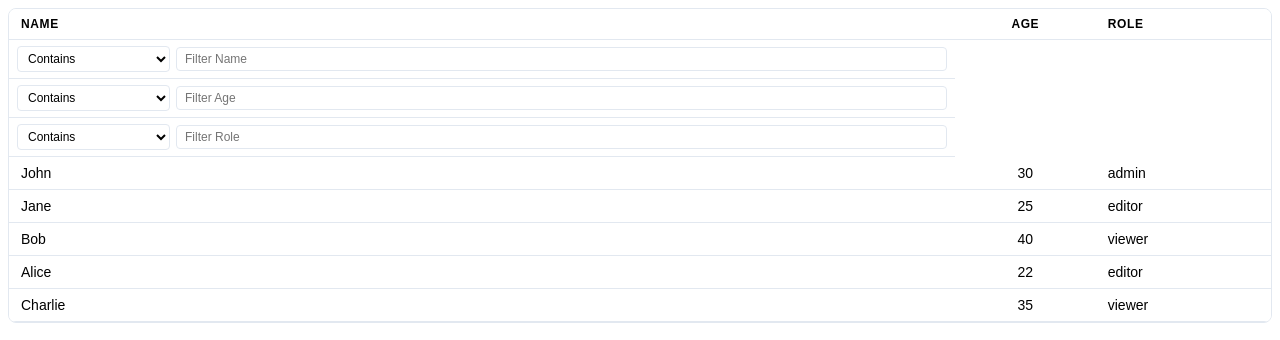
Test: DataGrid › filters with a chosen operator
The image size is (1280, 340).
Select "NotEquals" in the dropdown named "Role operator" at (94,137), box 17,124 -> 170,150
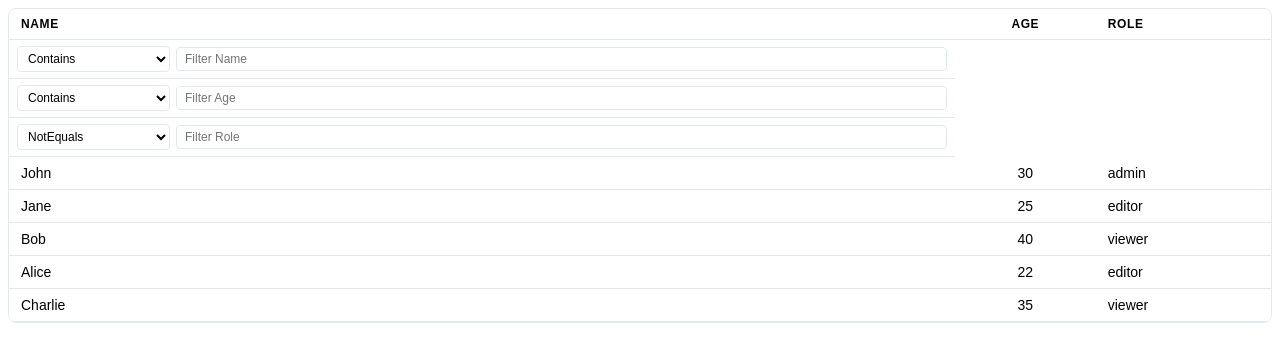
Type "editor" into the field named "Role value" at (561,137), box 176,125 -> 947,149
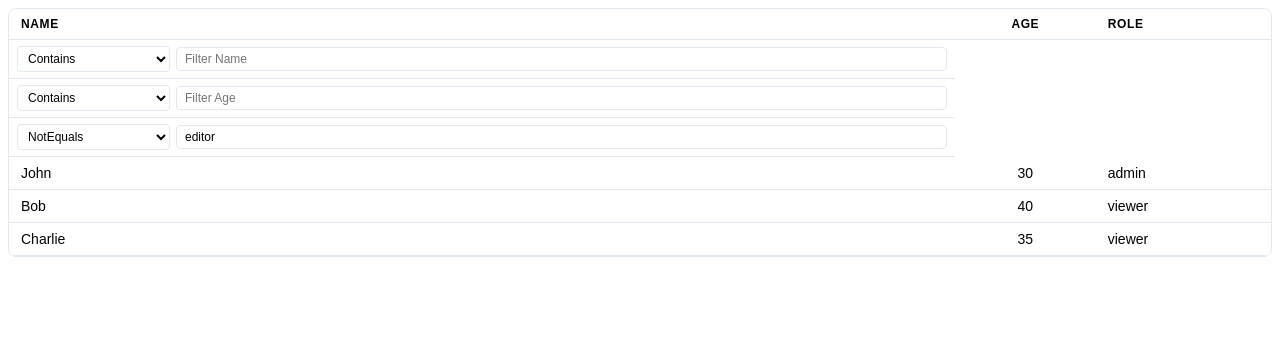
Expected: the row "John 30 admin" is shown, 9,157 -> 1271,190
Expected: the number of rows is 5, 9,9 -> 1271,40; 9,40 -> 1271,157; 9,157 -> 1271,190; 9,190 -> 1271,222; 9,222 -> 1271,256
